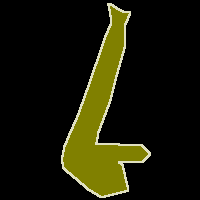tie: (62, 4, 150, 197)
